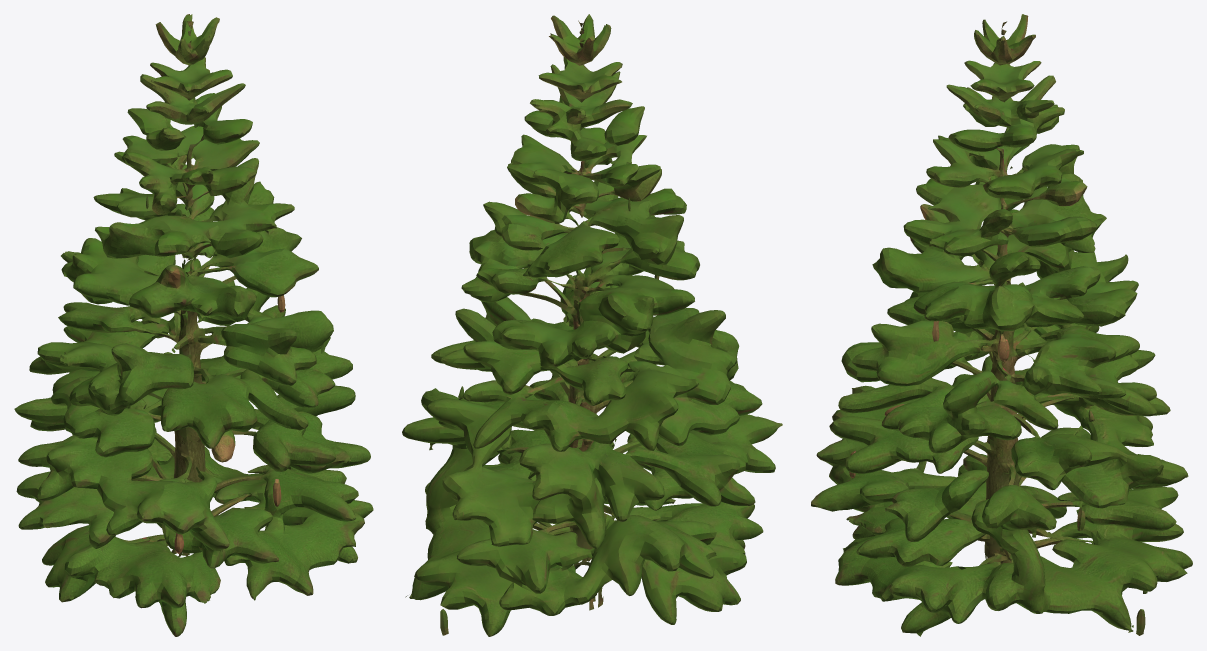
Rendered from raw_meshy_model.glb.
3 renders of one model, left to right at view 1: azimuth 30°, elevation 25°; view 2: azimuth 150°, elevation 25°; view 3: azimuth 270°, elevation 25°, orthographic. The views are drawn at different scales.
Size of the model in its own units: 0.9935 by 1.67 by 0.9966.
Materials: 1 (1 with a texture image).
